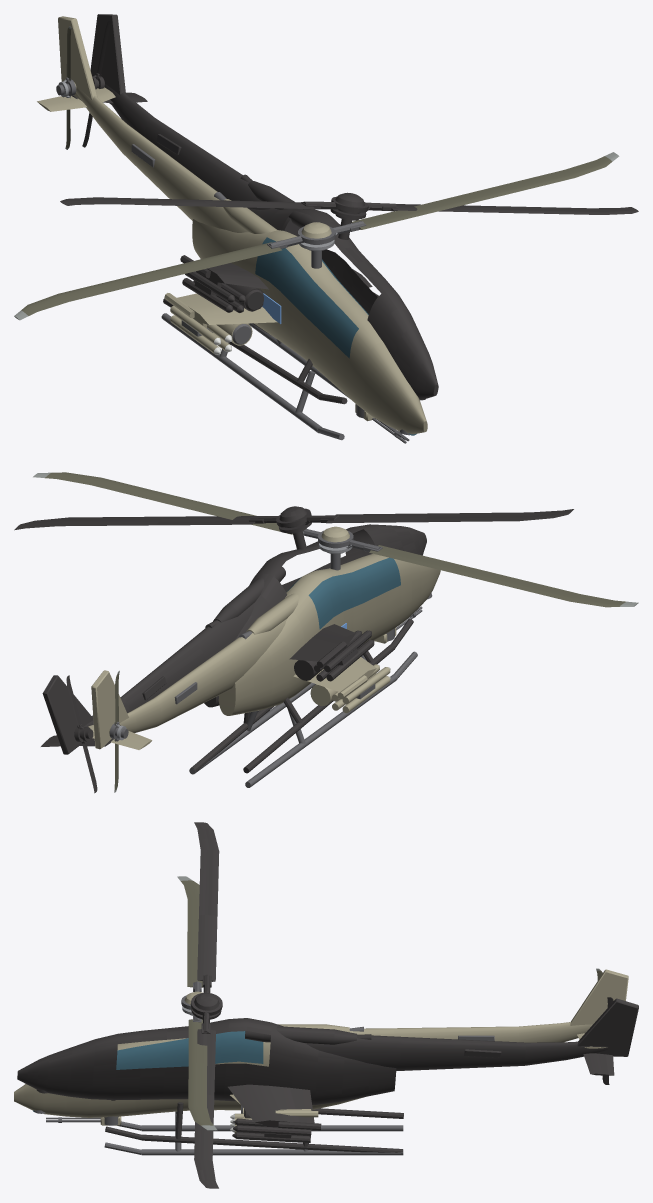
File: gunship__ah_1s_japan.glb
3 renders of one model, top to bottom at view 1: azimuth 30°, elevation 25°; view 2: azimuth 150°, elevation 25°; view 3: azimuth 270°, elevation 25°, orthographic. The views are drawn at different scales.
Parts seen in each view (by area): view 1: Fuselage_Mesh, Wreck, Rotor_Main_Mesh, Stub_Wings_Stores_Mesh, Landing_Gear_Mesh, Engines_Mesh, Rotor_Tail_Mesh; view 2: Wreck, Fuselage_Mesh, Rotor_Main_Mesh, Stub_Wings_Stores_Mesh, Landing_Gear_Mesh, Engines_Mesh, Rotor_Tail_Mesh; view 3: Wreck, Fuselage_Mesh, Rotor_Main_Mesh, Landing_Gear_Mesh.
Part boxes in pixels (x1,y1,x2,y2): Fuselage_Mesh: [37, 16, 427, 435]; Wreck: [60, 14, 638, 404]; Rotor_Main_Mesh: [14, 152, 619, 320]; Stub_Wings_Stores_Mesh: [164, 293, 277, 354]; Landing_Gear_Mesh: [161, 313, 349, 440]; Engines_Mesh: [214, 192, 277, 233]; Rotor_Tail_Mesh: [56, 26, 76, 149]; Wreck: [14, 506, 573, 793]; Fuselage_Mesh: [88, 553, 440, 749]; Rotor_Main_Mesh: [33, 472, 638, 607]; Stub_Wings_Stores_Mesh: [293, 657, 390, 713]; Landing_Gear_Mesh: [189, 651, 417, 787]; Engines_Mesh: [238, 593, 298, 639]; Rotor_Tail_Mesh: [109, 670, 128, 792]; Wreck: [17, 822, 638, 1188]; Fuselage_Mesh: [14, 969, 628, 1117]; Rotor_Main_Mesh: [177, 876, 217, 1130]; Landing_Gear_Mesh: [104, 1111, 403, 1155].
Size of what is drawn, in the model's own units: 13.82 by 5.37 by 13.96.
